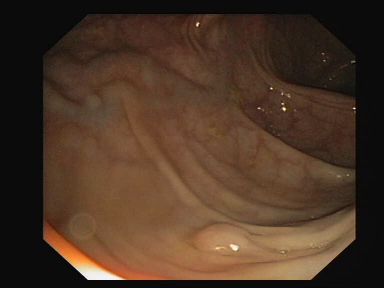polyp: (191, 222, 250, 257), (103, 76, 138, 104), (82, 92, 102, 110)
